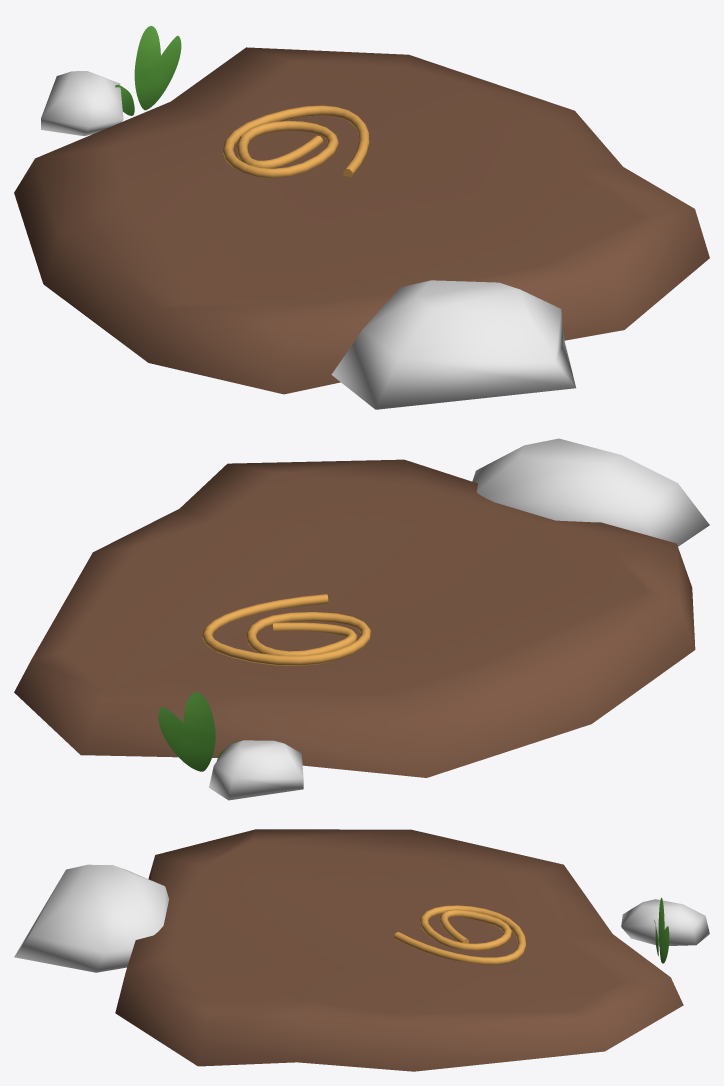
File: SM_Construction_01.fbx
The picture shows the model from 3 angles, top to bottom: view 1: azimuth 30°, elevation 25°; view 2: azimuth 150°, elevation 25°; view 3: azimuth 270°, elevation 25°; orthographic projection. The views are drawn at different scales.
Visible parts, largest first — view 1: Cube.481, Stone_01.023, BezierCurve.011, Grass.019; view 2: Cube.481, Stone_01.023, BezierCurve.011, Grass.019; view 3: Cube.481, Stone_01.023, BezierCurve.011, Grass.019.
Part boxes in pixels (<box>): Cube.481: <box>14,47,709,394</box>; Stone_01.023: <box>41,71,575,409</box>; BezierCurve.011: <box>223,105,369,177</box>; Grass.019: <box>115,26,181,115</box>; Cube.481: <box>14,459,695,777</box>; Stone_01.023: <box>209,438,709,800</box>; BezierCurve.011: <box>202,594,370,665</box>; Grass.019: <box>158,692,237,771</box>; Cube.481: <box>115,829,683,1071</box>; Stone_01.023: <box>14,864,709,972</box>; BezierCurve.011: <box>394,905,525,964</box>; Grass.019: <box>654,897,669,963</box>.
Size of the model in its own units: 7.64 by 1.15 by 10.74.
